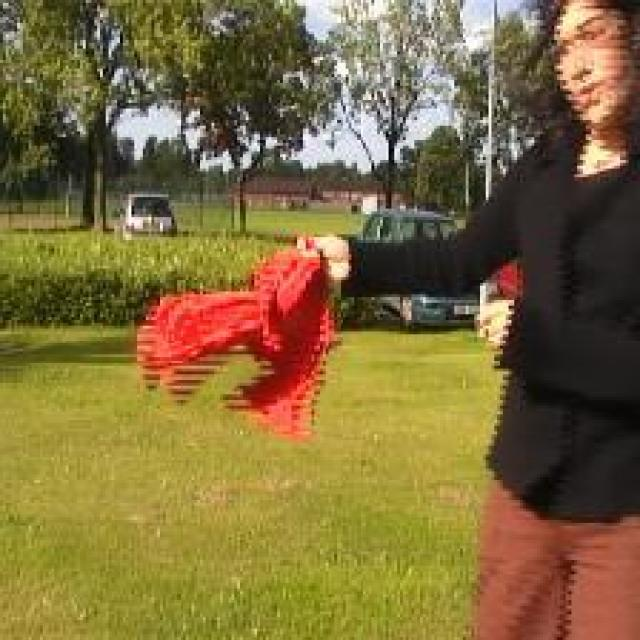other: (160, 234, 327, 432)
